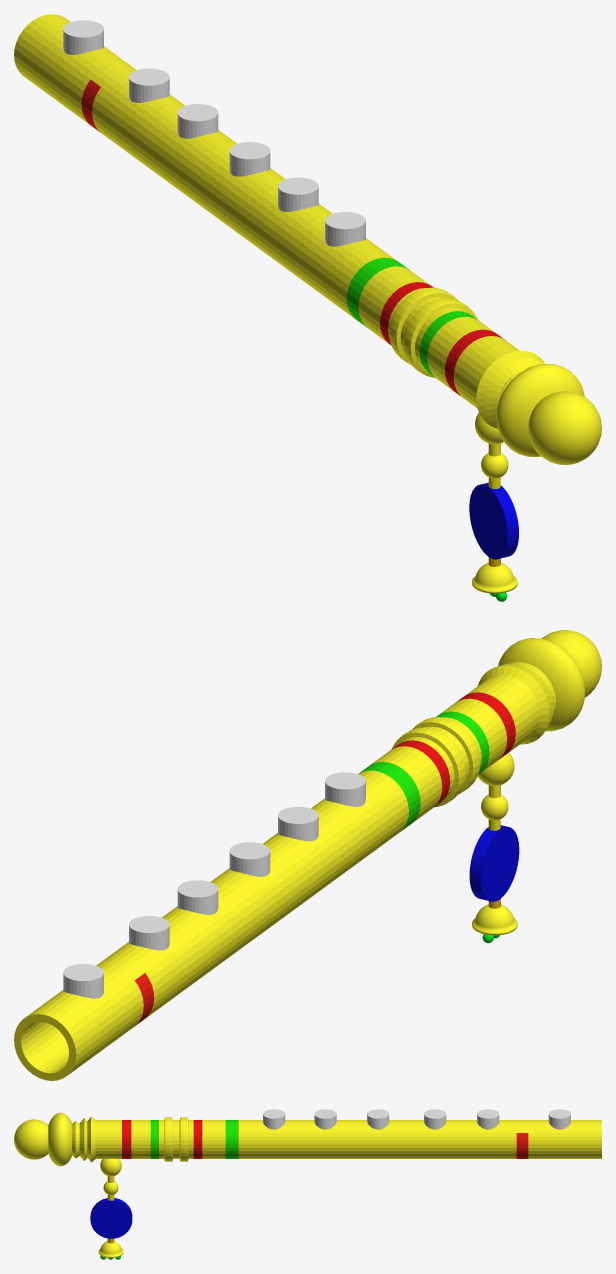
File: Flute blend.gltf
3 renders of one model, top to bottom at view 1: azimuth 30°, elevation 25°; view 2: azimuth 150°, elevation 25°; view 3: azimuth 270°, elevation 25°, orthographic. The views are drawn at different scales.
Visible parts, largest first — view 1: Sphere.003, Cylinder.004, Circle, Cylinder.003, Cylinder.002; view 2: Sphere.003, Cylinder.004, Circle, Cylinder.003, Cylinder.002; view 3: Sphere.003, Cylinder.004, Circle, Cylinder.003, Cylinder.002.
Boxes of the visible parts, x1,y1,x2,y2 form: Sphere.003: (14,14,601,593); Cylinder.004: (63,20,365,246); Circle: (469,482,518,559); Cylinder.003: (346,257,478,377); Cylinder.002: (380,282,504,396); Sphere.003: (14,630,601,1080); Cylinder.004: (63,772,365,998); Circle: (469,825,519,901); Cylinder.003: (358,711,489,831); Cylinder.002: (390,692,515,806); Sphere.003: (14,1112,601,1257); Cylinder.004: (263,1109,570,1129); Circle: (90,1198,132,1238); Cylinder.003: (150,1120,238,1158); Cylinder.002: (122,1120,202,1158).
Size of the model in its own units: 2 by 5.98 by 21.91.
